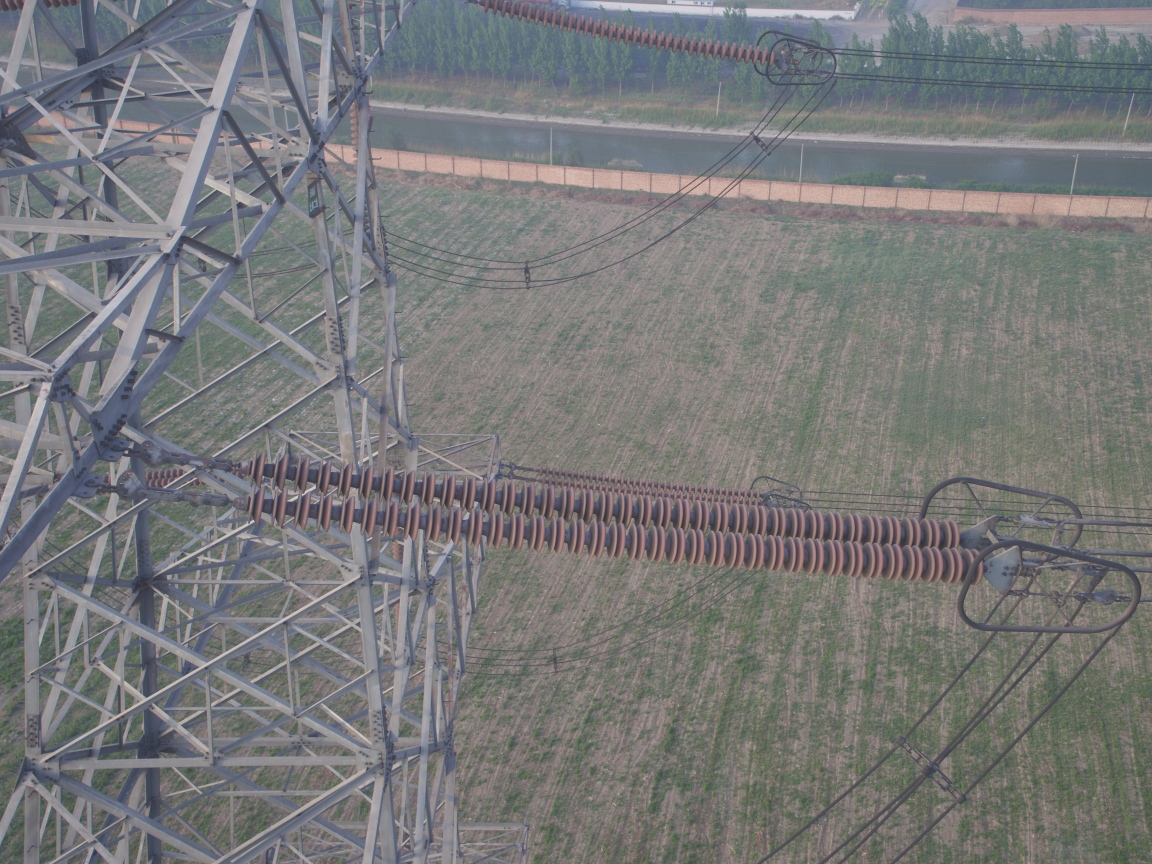insulator: (182, 442, 997, 588), (438, 1, 784, 71)
